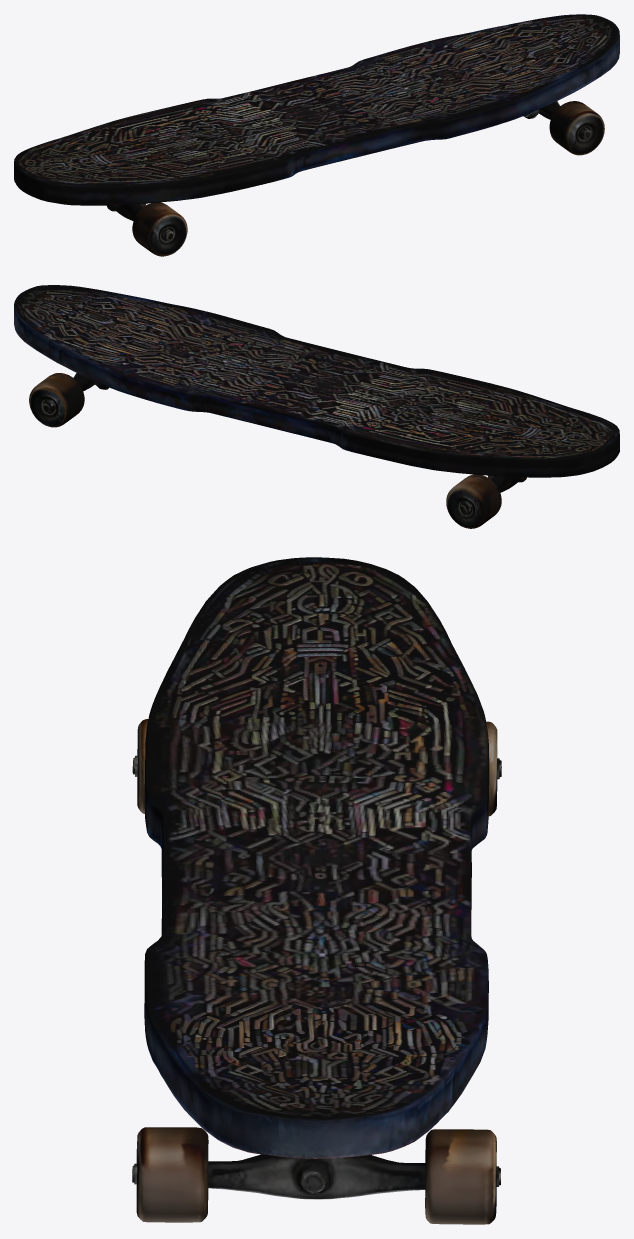
The model's file is CCG_Deck_Terrierbyte_web.glb.
3 views of the same model, one above another, from view 1: azimuth 30°, elevation 25°; view 2: azimuth 150°, elevation 25°; view 3: azimuth 270°, elevation 25° (orthographic). The views are drawn at different scales.
Visible parts, largest first — view 1: SM_Deck_Terrierbyte; view 2: SM_Deck_Terrierbyte; view 3: SM_Deck_Terrierbyte.
Part boxes in pixels (left/top/right/bottom): SM_Deck_Terrierbyte: left=14, top=14, right=619, bottom=256; SM_Deck_Terrierbyte: left=14, top=285, right=619, bottom=528; SM_Deck_Terrierbyte: left=132, top=557, right=501, bottom=1224.
Size of the model in its own units: 0.82 by 0.1122 by 0.222.
1 material, 1 textured.
